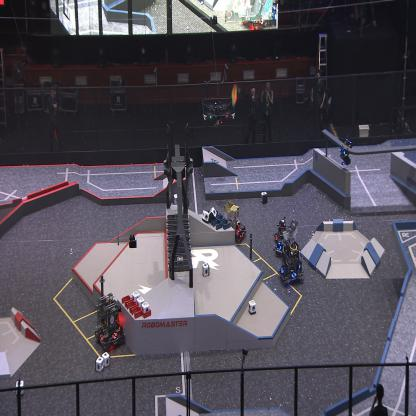car: (95, 292, 126, 352), (278, 243, 305, 286), (223, 200, 247, 245), (274, 219, 300, 256), (274, 216, 288, 248)
